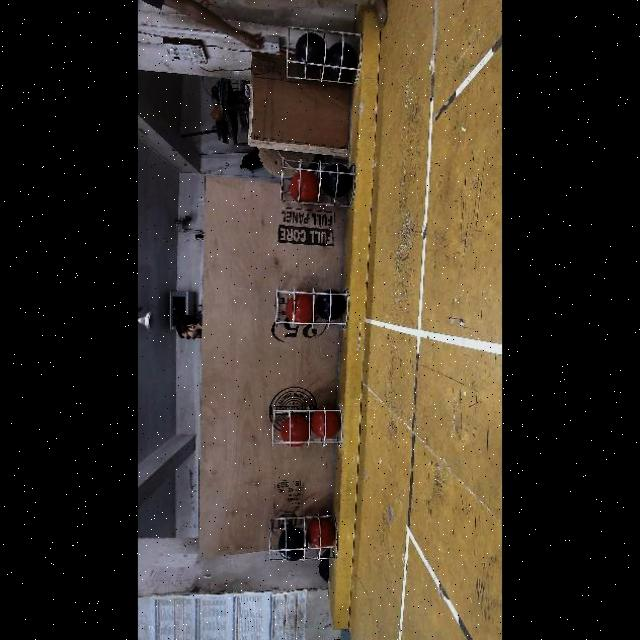P: (324, 42, 356, 78), (294, 34, 326, 68), (278, 526, 306, 562), (320, 164, 350, 196), (315, 290, 343, 320)
R: (311, 407, 339, 439), (290, 170, 318, 202), (286, 294, 314, 326), (278, 416, 306, 446), (306, 518, 332, 550)
S: (278, 27, 360, 89), (278, 156, 360, 210), (265, 510, 339, 568), (266, 406, 340, 454), (270, 288, 346, 332)
